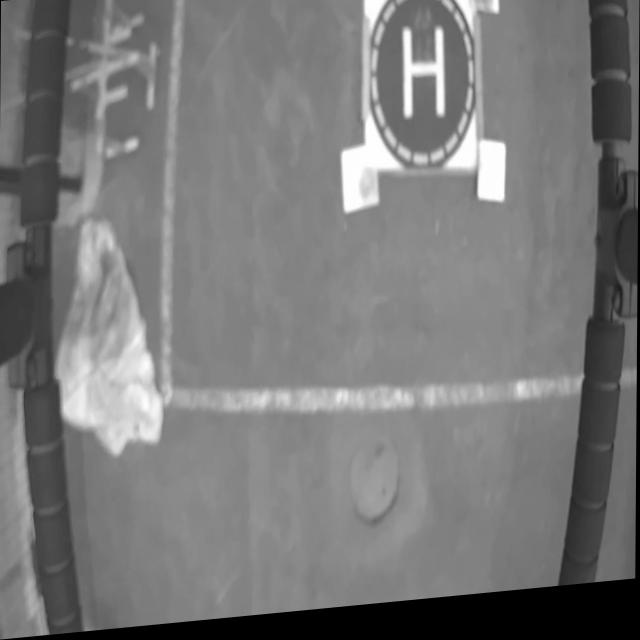Helipad: (400, 33, 445, 125)
